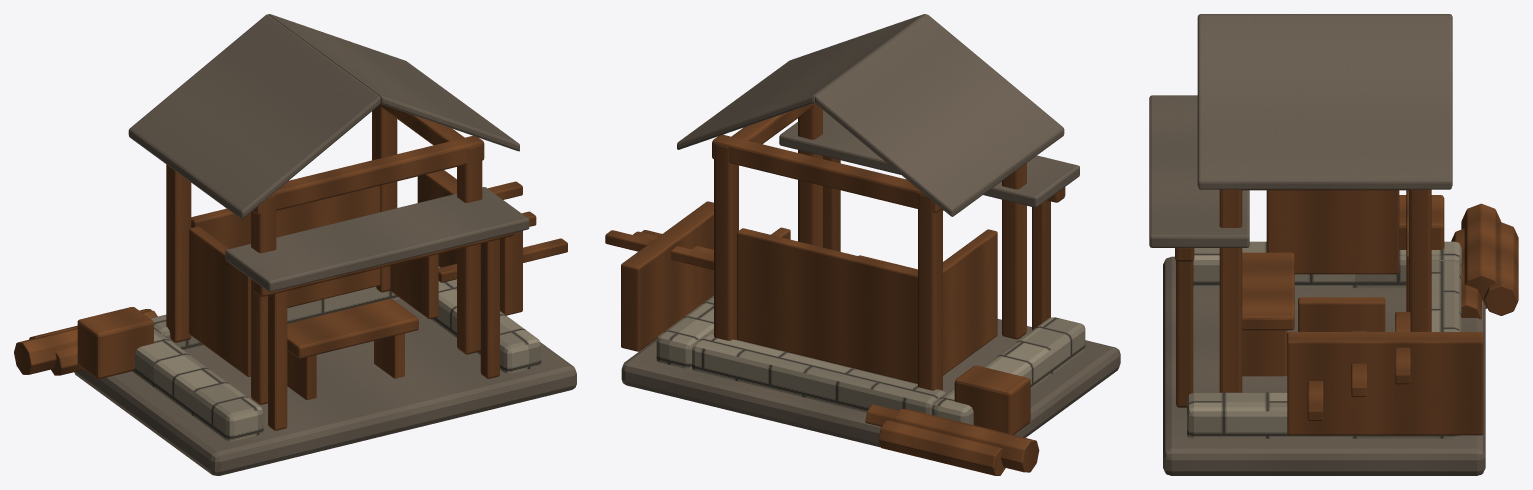
File: SawmillState2V1.glb
3 renders of one model, left to right at view 1: azimuth 30°, elevation 25°; view 2: azimuth 150°, elevation 25°; view 3: azimuth 270°, elevation 25°, orthographic. The views are drawn at different scales.
Visible parts, largest first — view 1: Sawmill_State2_Foundation, Sawmill_State2_Roof, Sawmill_State2_WorkFace, Sawmill_State2_Frame, Sawmill_State2_Infill, Sawmill_State2_Storage; view 2: Sawmill_State2_Roof, Sawmill_State2_Foundation, Sawmill_State2_Infill, Sawmill_State2_Frame, Sawmill_State2_Storage, Sawmill_State2_WorkFace; view 3: Sawmill_State2_Roof, Sawmill_State2_Foundation, Sawmill_State2_Storage, Sawmill_State2_WorkFace, Sawmill_State2_Infill, Sawmill_State2_Frame.
Boxes of the visible parts, left/top/right/bottom form: Sawmill_State2_Foundation: left=74, top=266, right=576, bottom=475; Sawmill_State2_Roof: left=128, top=14, right=519, bottom=218; Sawmill_State2_WorkFace: left=225, top=187, right=529, bottom=430; Sawmill_State2_Frame: left=166, top=103, right=484, bottom=404; Sawmill_State2_Infill: left=189, top=185, right=438, bottom=376; Sawmill_State2_Storage: left=14, top=170, right=567, bottom=378; Sawmill_State2_Roof: left=677, top=14, right=1064, bottom=216; Sawmill_State2_Foundation: left=621, top=295, right=1120, bottom=447; Sawmill_State2_Infill: left=737, top=227, right=997, bottom=383; Sawmill_State2_Frame: left=712, top=102, right=1026, bottom=390; Sawmill_State2_Storage: left=605, top=201, right=1039, bottom=475; Sawmill_State2_WorkFace: left=779, top=110, right=1079, bottom=330; Sawmill_State2_Roof: left=1197, top=14, right=1452, bottom=189; Sawmill_State2_Foundation: left=1163, top=241, right=1485, bottom=475; Sawmill_State2_Storage: left=1287, top=195, right=1518, bottom=435; Sawmill_State2_WorkFace: left=1149, top=95, right=1294, bottom=407; Sawmill_State2_Infill: left=1266, top=190, right=1408, bottom=331; Sawmill_State2_Frame: left=1219, top=189, right=1431, bottom=392.
Size of the model in its own units: 6.91 by 4.62 by 4.23.
Materials: 6 (6 with a texture image).
